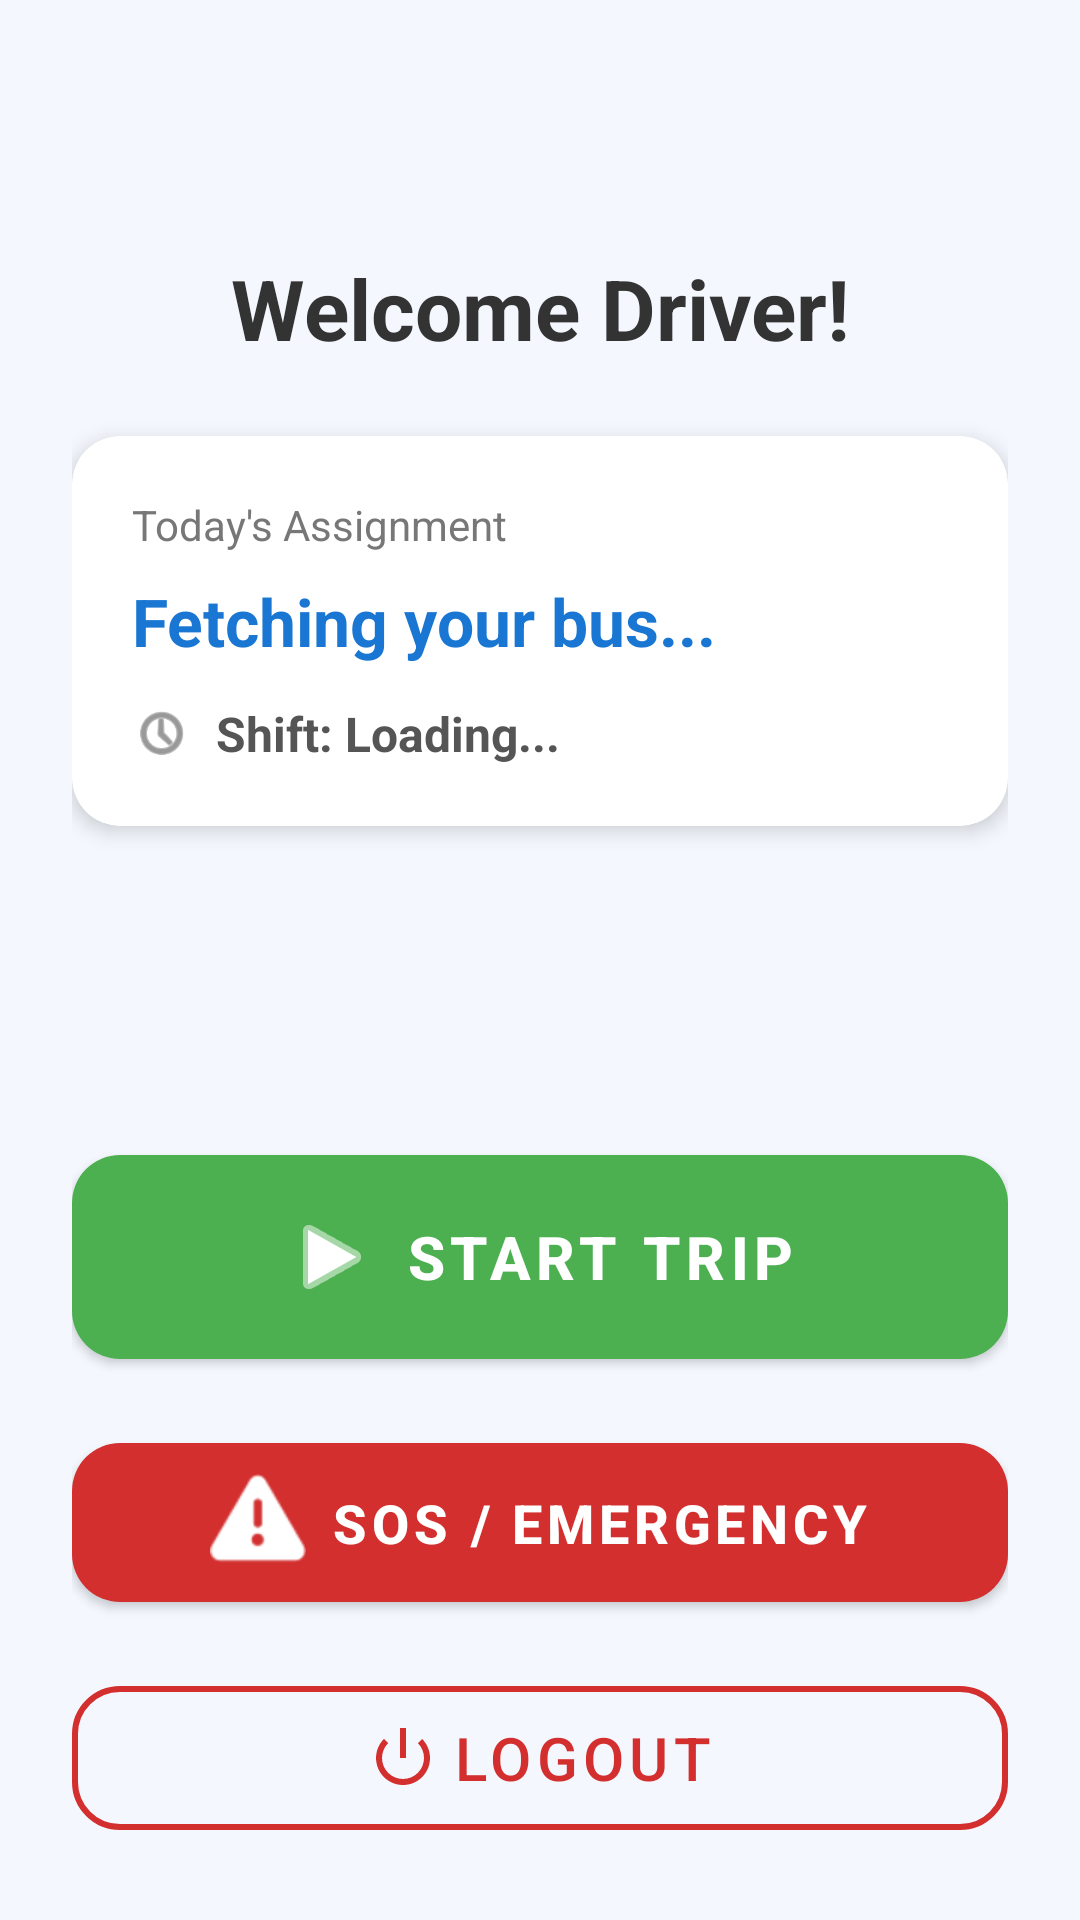

Screen size 1080w x 1920h. Icon name, then its box in pixels as (x1, y1, x2, y2):
recent history: (140, 712, 183, 755)
